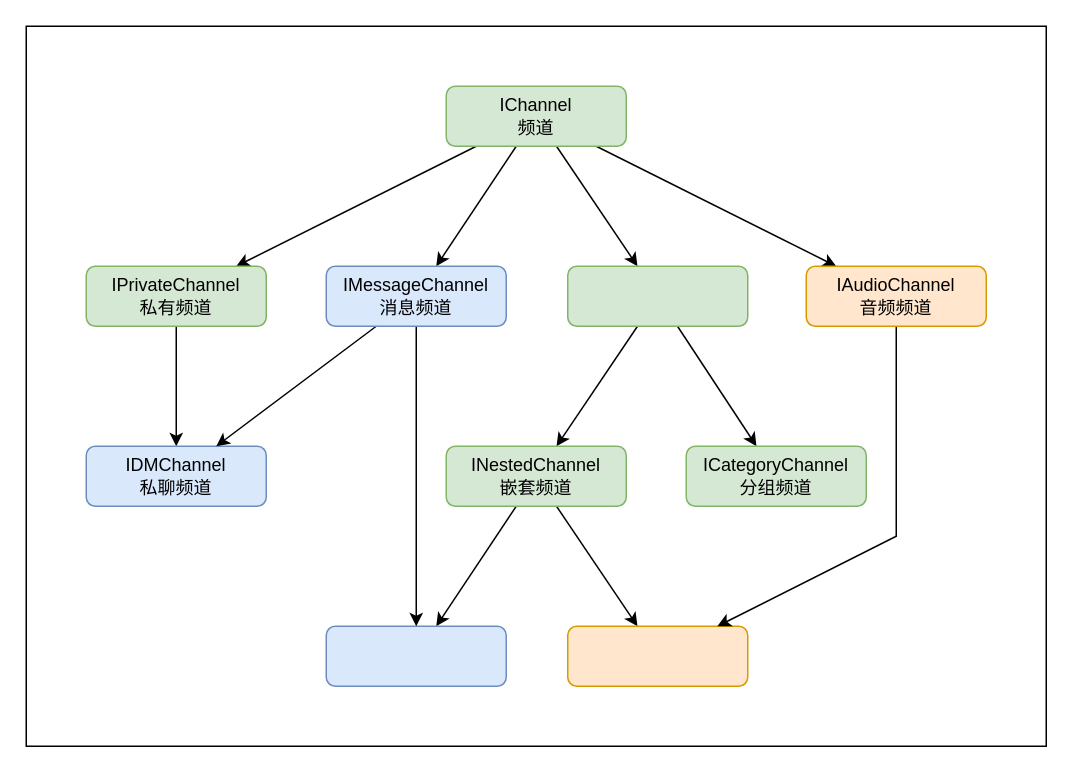
The diagram is 1073 pixels wide and 773 high, and some of its shapes have lost their labels. Here are the shapes that lost their labels. From the top down, the box of each, then its label:
(566, 265, 748, 326): IGuildChannel 服务器频道
(325, 625, 506, 686): ITextChannel 服务器文字频道
(566, 625, 748, 686): IVoiceChannel 语音频道
